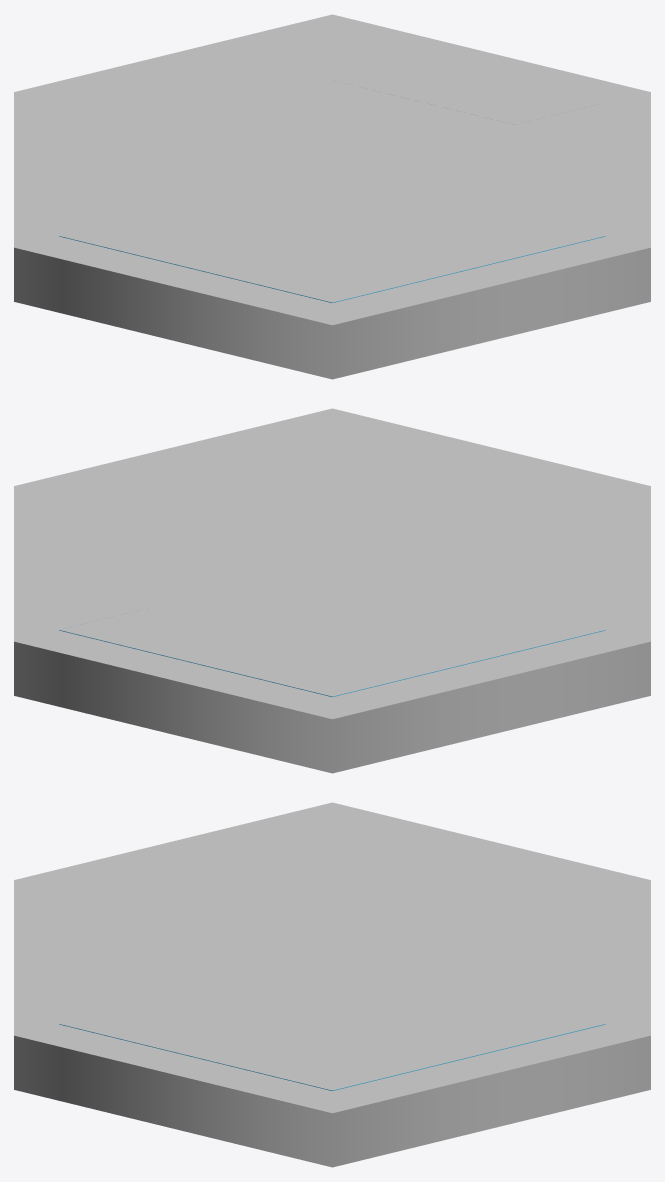
The model's file is Puzzle_6.FBX.
The picture shows the model from 3 angles, top to bottom: view 1: azimuth 30°, elevation 25°; view 2: azimuth 150°, elevation 25°; view 3: azimuth 270°, elevation 25°; orthographic projection.
Parts seen in each view (by area): view 1: Cylinder001, D_5, D_1, D_2, D_4, D_3; view 2: Cylinder001, D_5, D_1, D_2, D_4, D_3; view 3: Cylinder001, D_5, D_1, D_2, D_4, D_3.
Part boxes in pixels (bbox=[...]): Cylinder001: bbox=[14, 14, 650, 379]; D_5: bbox=[59, 125, 486, 302]; D_1: bbox=[284, 102, 605, 265]; D_2: bbox=[150, 80, 514, 213]; D_4: bbox=[59, 36, 332, 170]; D_3: bbox=[332, 36, 605, 124]; Cylinder001: bbox=[14, 408, 650, 773]; D_5: bbox=[332, 459, 605, 672]; D_1: bbox=[60, 430, 450, 585]; D_2: bbox=[150, 519, 423, 651]; D_4: bbox=[59, 607, 431, 696]; D_3: bbox=[59, 496, 150, 629]; Cylinder001: bbox=[14, 802, 650, 1167]; D_5: bbox=[59, 824, 514, 965]; D_1: bbox=[59, 934, 423, 1090]; D_2: bbox=[242, 913, 514, 1045]; D_4: bbox=[420, 866, 605, 1023]; D_3: bbox=[332, 1001, 605, 1090].
Size of the model in its own units: 4 by 0.3294 by 3.46.
